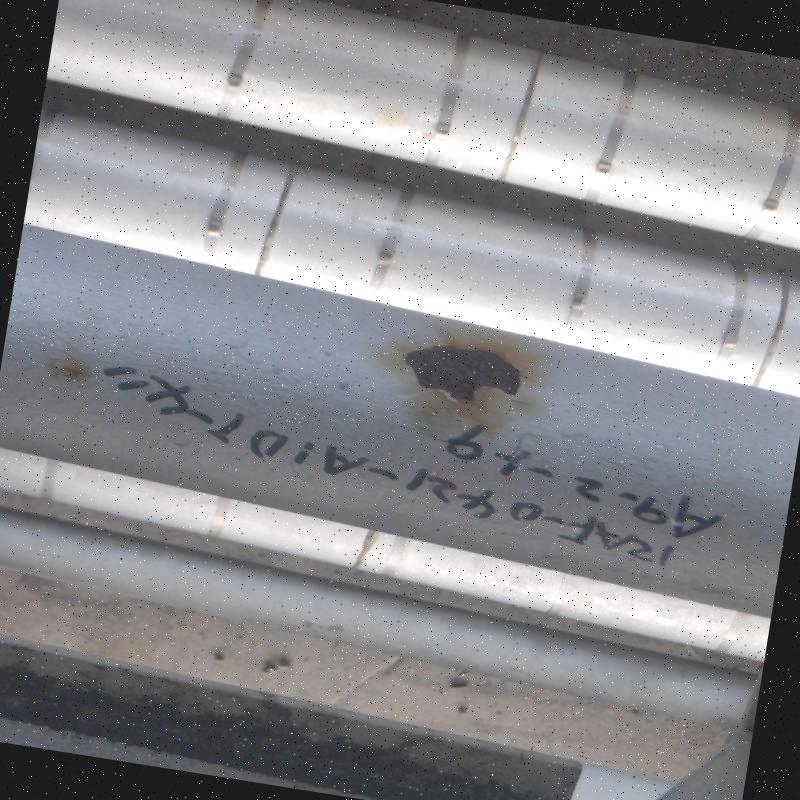corrosion: (392, 323, 531, 420)
